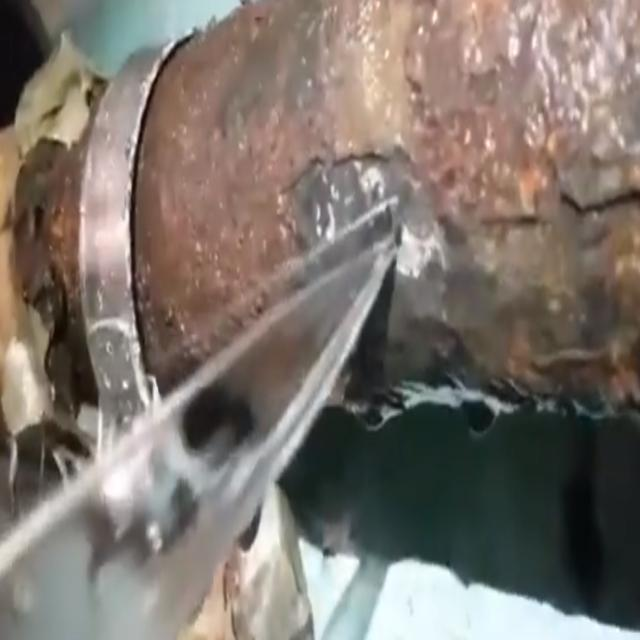leak: (0, 197, 398, 636)
